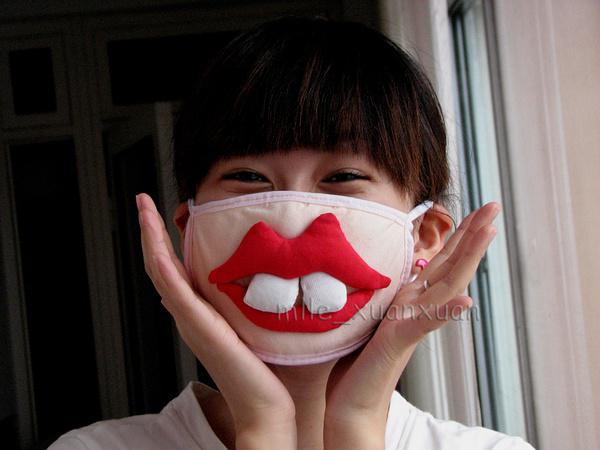OK: (185, 139, 406, 352)
